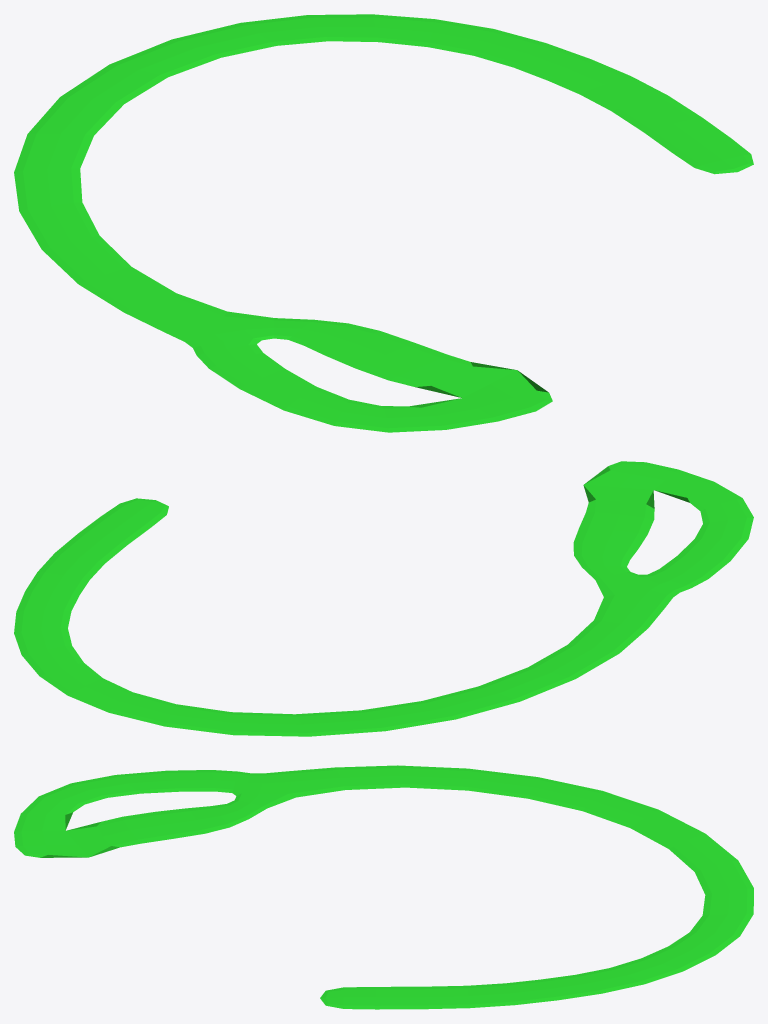
File: BasicMapFloor.fbx
3 views of the same model, one above another, from view 1: azimuth 30°, elevation 25°; view 2: azimuth 150°, elevation 25°; view 3: azimuth 270°, elevation 25° (orthographic). The views are drawn at different scales.
Visible parts, largest first — view 1: Cube; view 2: Cube; view 3: Cube.
Boxes of the visible parts, x1=… form: Cube: x1=14, y1=14, x2=753, y2=432; Cube: x1=14, y1=461, x2=753, y2=736; Cube: x1=14, y1=765, x2=753, y2=1009.
Size of the model in its own units: 8739 by 27.46 by 11199.
